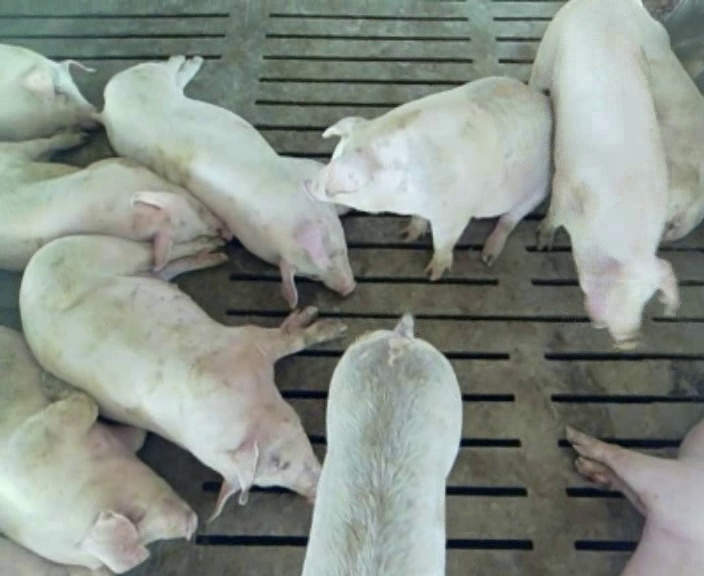pig: (20, 236, 345, 518), (101, 56, 354, 307), (530, 3, 677, 343), (308, 77, 551, 279), (303, 314, 461, 574), (566, 420, 703, 574)
